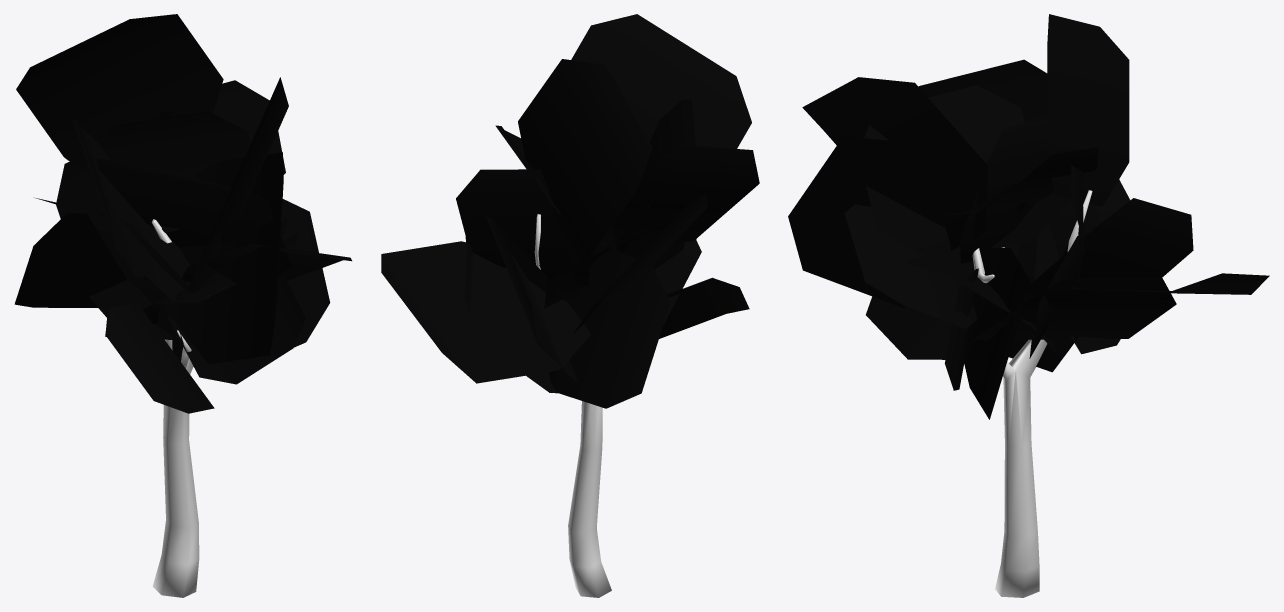
File: Tree_02.fbx
The picture shows the model from 3 angles, left to right: view 1: azimuth 30°, elevation 25°; view 2: azimuth 150°, elevation 25°; view 3: azimuth 270°, elevation 25°; orthographic projection. The views are drawn at different scales.
Parts seen in each view (by area): view 1: Tree_3; view 2: Tree_3; view 3: Tree_3.
Part boxes in pixels (left/top/right/bottom): Tree_3: left=14, top=14, right=351, bottom=597; Tree_3: left=381, top=14, right=759, bottom=597; Tree_3: left=788, top=14, right=1269, bottom=597.
Size of the model in its own units: 22.63 by 46.92 by 36.46.
2 materials, 1 textured.
